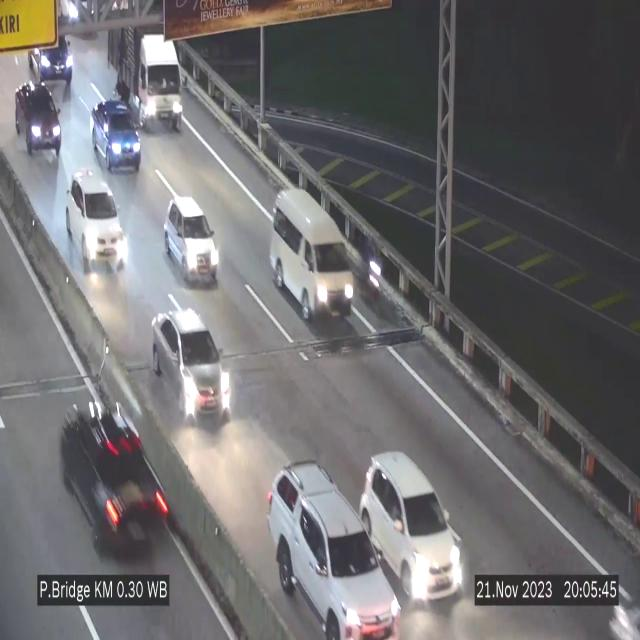Car: (269, 462, 397, 640), (359, 450, 465, 610), (270, 189, 356, 330), (152, 309, 230, 423), (67, 170, 125, 274), (164, 198, 218, 284), (9, 90, 65, 164), (92, 100, 141, 174), (31, 24, 74, 84)
Motorcycle: (365, 236, 383, 314)
Truck: (52, 380, 176, 572), (108, 26, 182, 130)
